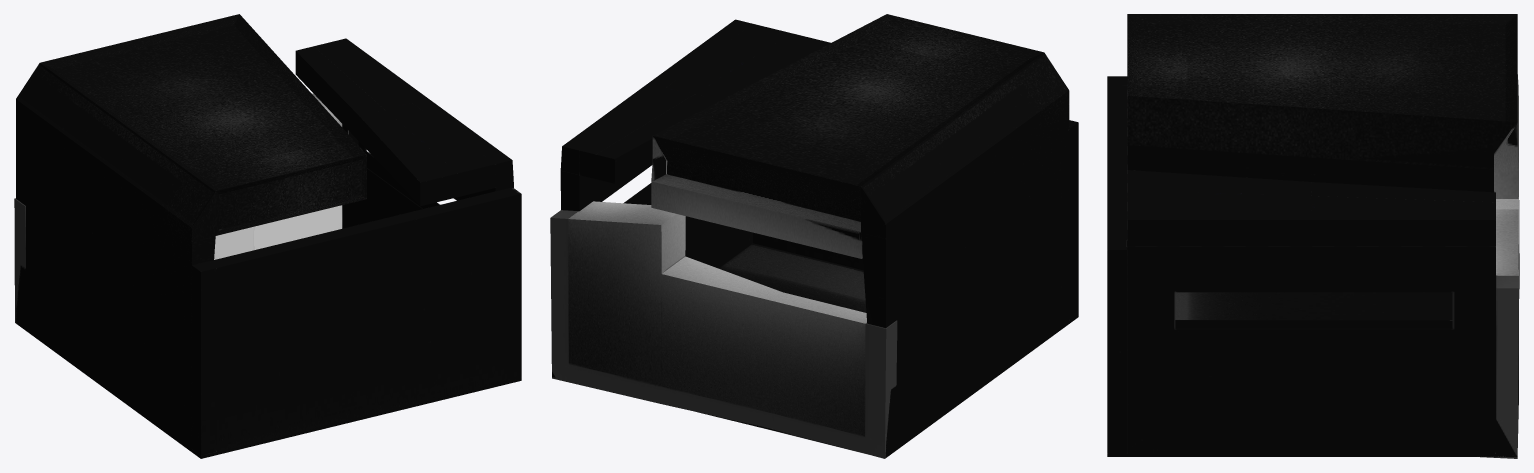
Rendered from Room.fbx.
3 renders of one model, left to right at view 1: azimuth 30°, elevation 25°; view 2: azimuth 150°, elevation 25°; view 3: azimuth 270°, elevation 25°, orthographic. The views are drawn at different scales.
Visible parts, largest first — view 1: Cube; view 2: Cube; view 3: Cube.
Part boxes in pixels (box(x1,y1,x2,y2)): Cube: box(14, 14, 521, 458); Cube: box(550, 14, 1078, 458); Cube: box(1107, 14, 1519, 458).
Bounding box in the file's own units: 2014 × 1530 × 2010.
Materials: 1 (1 with a texture image).
